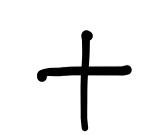plus: (37, 30, 132, 131)
